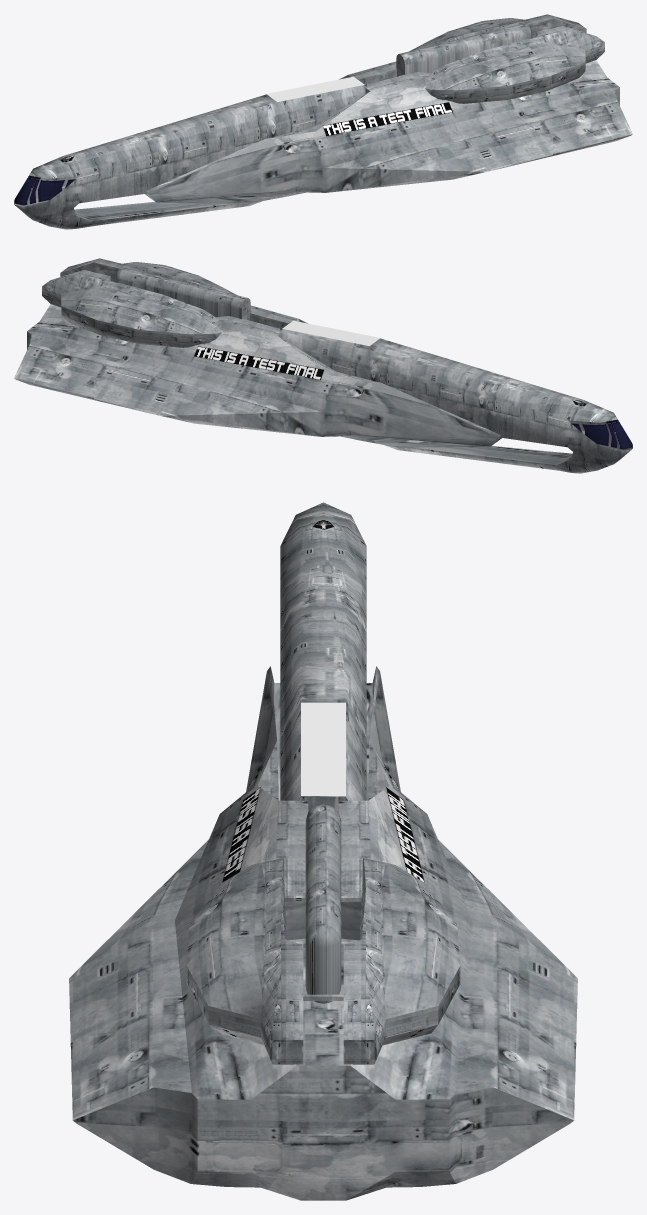
The model's file is sth23.obj.
3 views of the same model, one above another, from view 1: azimuth 30°, elevation 25°; view 2: azimuth 150°, elevation 25°; view 3: azimuth 270°, elevation 25° (orthographic). The views are drawn at different scales.
Parts seen in each view (by area): view 1: T_FIGHT_HULL_T0, NAMEDECAL0.011, DECAL030.007; view 2: T_FIGHT_HULL_T0, NAMEDECAL0.011, DECAL030.007; view 3: T_FIGHT_HULL_T0, DECAL030.007, NAMEDECAL0.011.
Boxes of the visible parts, bbox=[...] form: T_FIGHT_HULL_T0: bbox=[14, 14, 632, 229]; NAMEDECAL0.011: bbox=[323, 102, 452, 136]; DECAL030.007: bbox=[266, 76, 364, 101]; T_FIGHT_HULL_T0: bbox=[14, 258, 632, 473]; NAMEDECAL0.011: bbox=[194, 346, 323, 379]; DECAL030.007: bbox=[282, 320, 380, 345]; T_FIGHT_HULL_T0: bbox=[69, 502, 577, 1200]; DECAL030.007: bbox=[301, 702, 345, 795]; NAMEDECAL0.011: bbox=[222, 787, 424, 882].
Bounding box in the file's own units: 63.46 × 11.73 × 24.17.
Materials: 4 (4 with a texture image).
